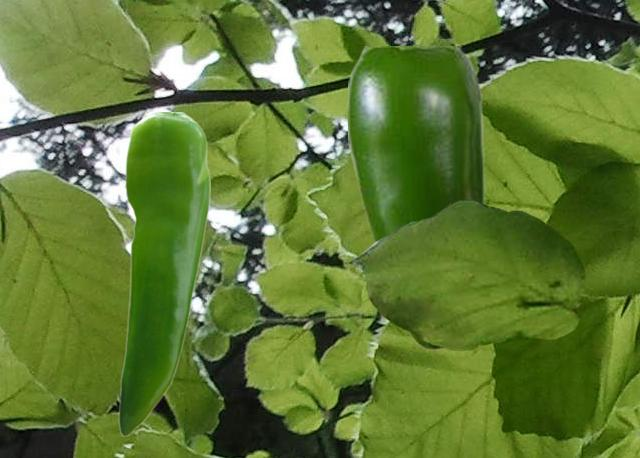green_chili: (348, 46, 484, 350), (118, 112, 209, 435)
